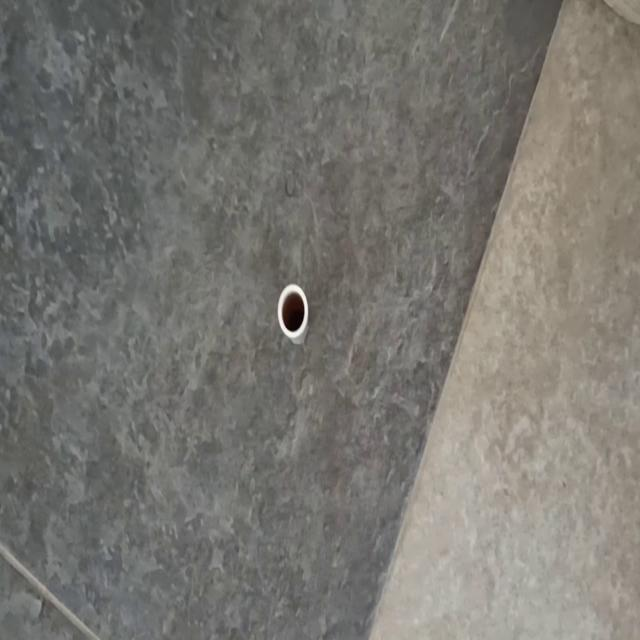Cube: (277, 282, 309, 344)
